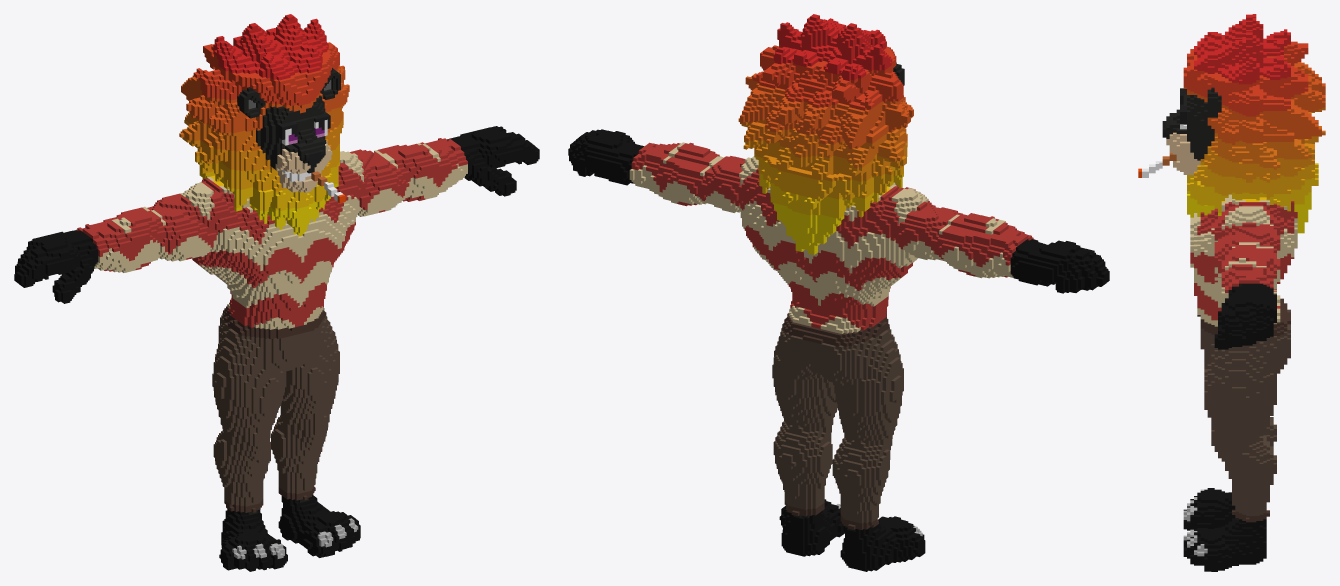
3 renders of one model, left to right at view 1: azimuth 30°, elevation 25°; view 2: azimuth 150°, elevation 25°; view 3: azimuth 270°, elevation 25°, orthographic. The views are drawn at different scales.
Parts seen in each view (by area): view 1: cigarette; view 2: cigarette; view 3: cigarette.
Part boxes in pixels (x1=…): cigarette: x1=14, y1=14, x2=539, y2=571; cigarette: x1=568, y1=14, x2=1109, y2=571; cigarette: x1=1138, y1=14, x2=1325, y2=571.
Bounding box in the file's own units: 17.2 × 16.5 × 5.4.
5 materials, 5 textured.
